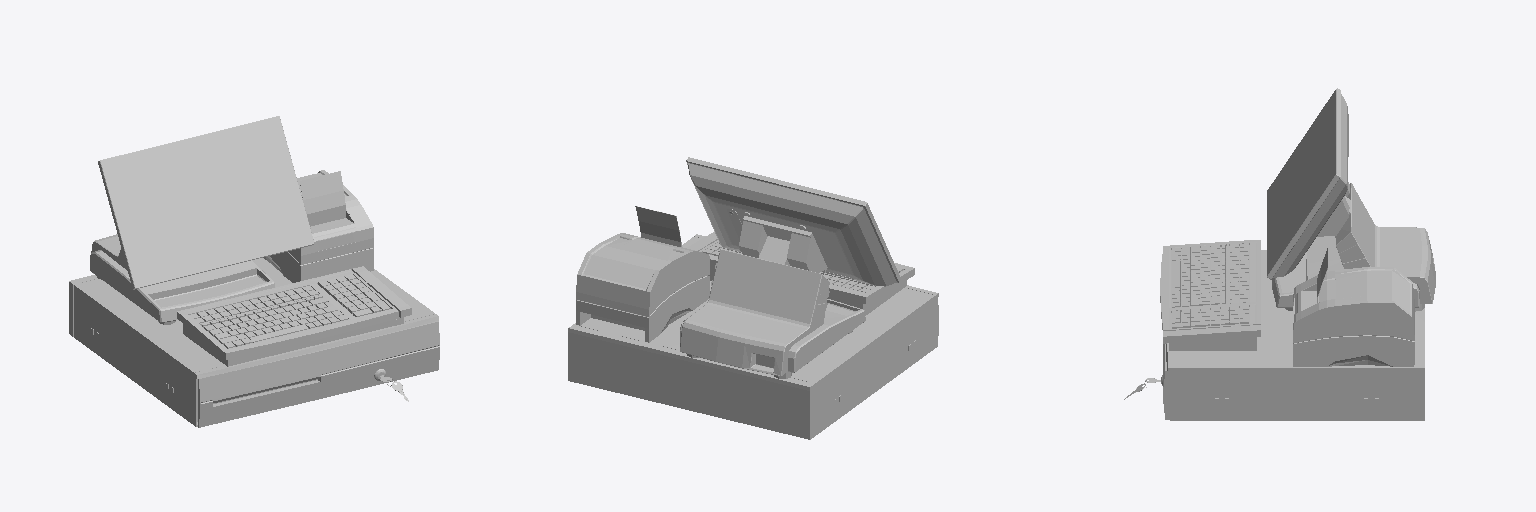
File: register_01.obj
The picture shows the model from 3 angles: view 1: azimuth 30°, elevation 25°; view 2: azimuth 150°, elevation 25°; view 3: azimuth 270°, elevation 25°; orthographic projection.
Visible parts, largest first — view 1: register_01_Plane.001_register_01_Plane.002; view 2: register_01_Plane.001_register_01_Plane.002; view 3: register_01_Plane.001_register_01_Plane.002.
Boxes of the visible parts, box(x1,y1,x2,y2) form: register_01_Plane.001_register_01_Plane.002: box(69, 116, 439, 427); register_01_Plane.001_register_01_Plane.002: box(568, 157, 938, 439); register_01_Plane.001_register_01_Plane.002: box(1124, 88, 1435, 420).
Size of the model in its own units: 0.4843 by 0.3874 by 0.5117.